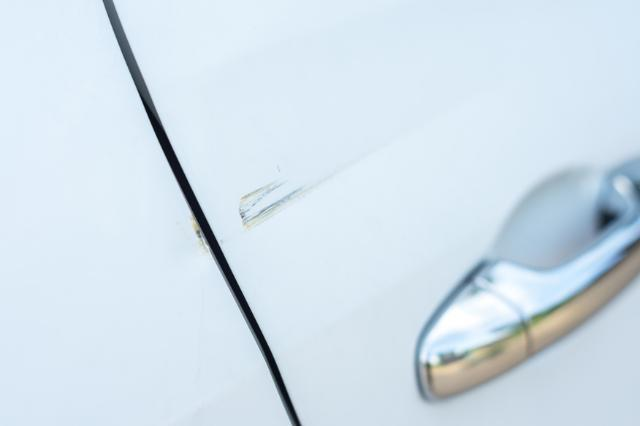Door: (198, 99, 445, 267)
